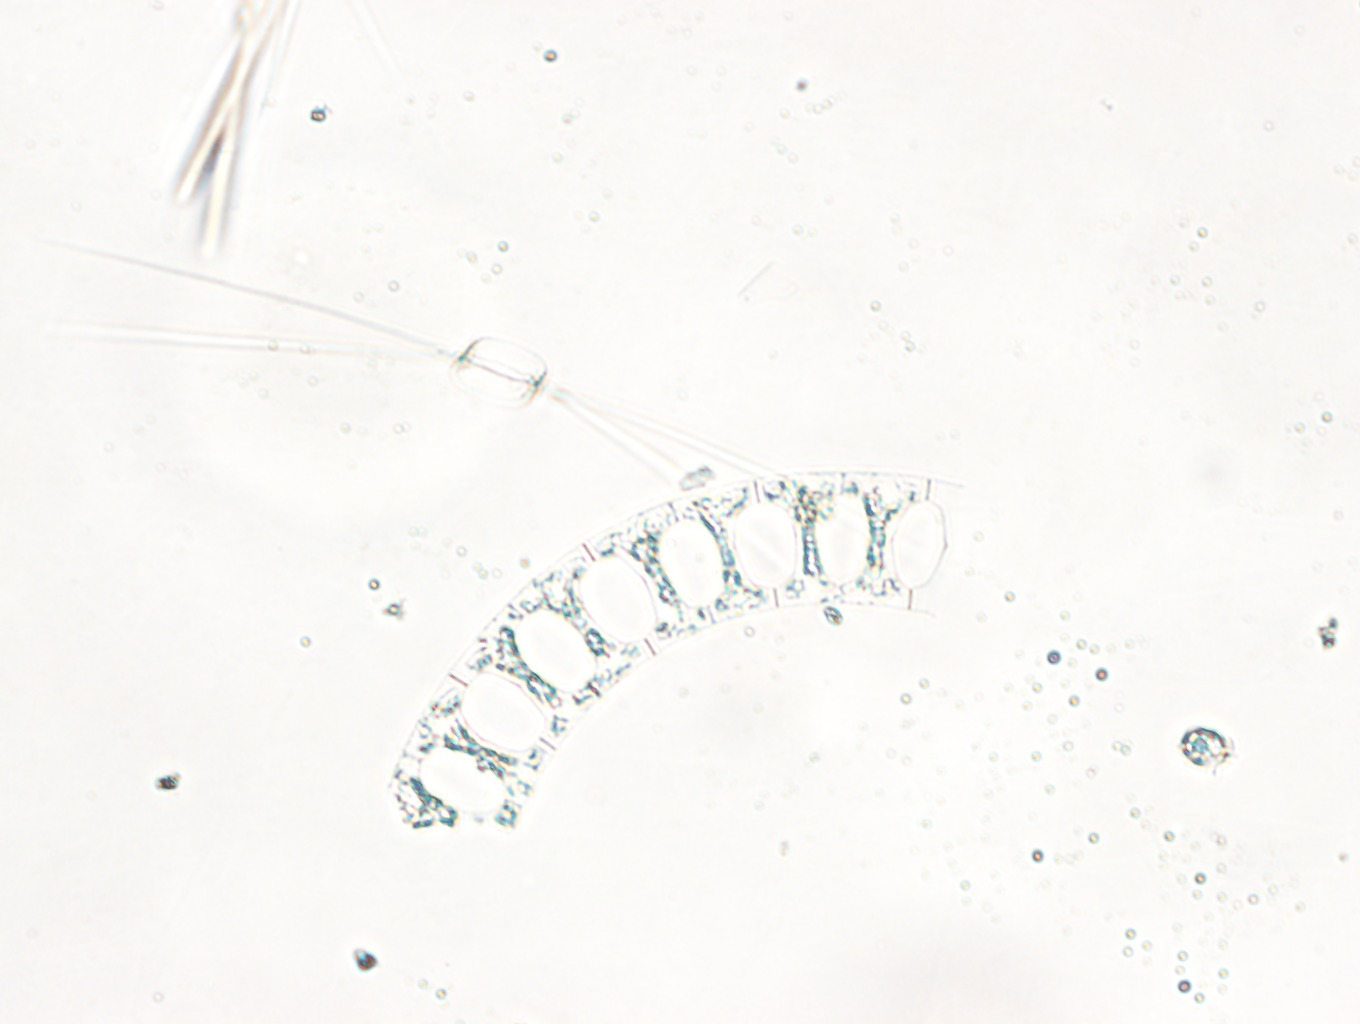eucampia: (376, 450, 982, 861)
